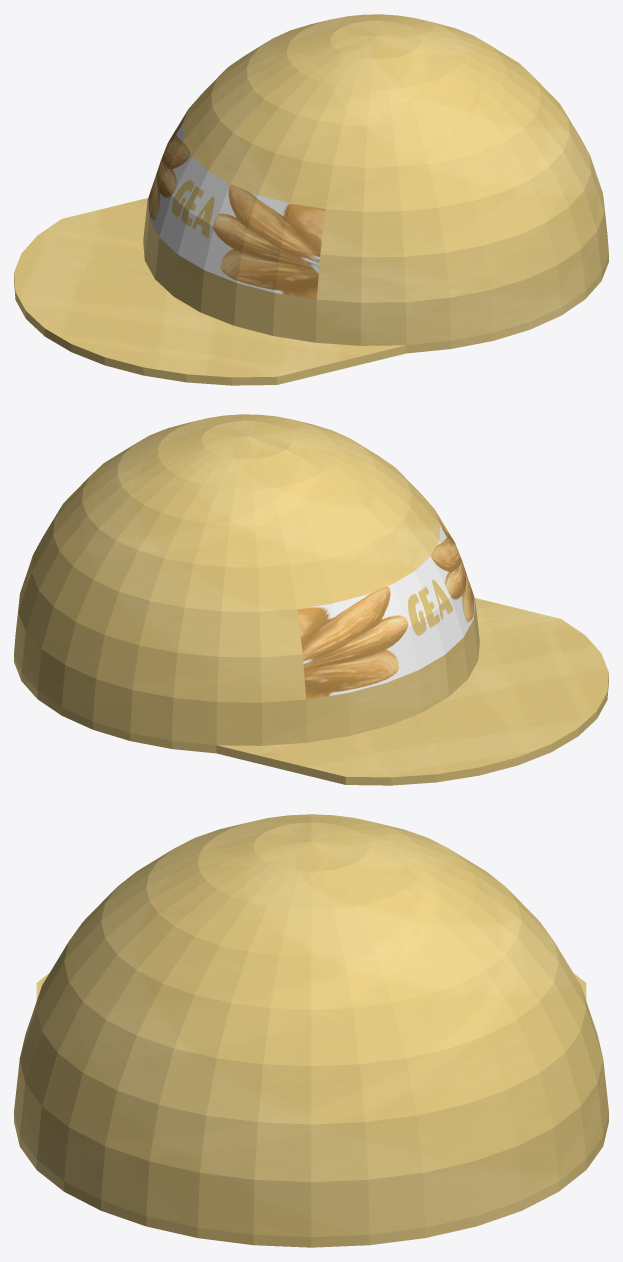
Rendered from CasquetteJaune.glb.
3 views of the same model, one above another, from view 1: azimuth 30°, elevation 25°; view 2: azimuth 150°, elevation 25°; view 3: azimuth 270°, elevation 25° (orthographic). The views are drawn at different scales.
Visible parts, largest first — view 1: Sphere; view 2: Sphere; view 3: Sphere.
Part boxes in pixels (<box>): Sphere: <box>14,14,608,385</box>; Sphere: <box>14,414,608,785</box>; Sphere: <box>14,814,608,1247</box>.
Size of the model in its own units: 0.2639 by 0.1039 by 0.2.
Materials: 2 (2 with a texture image).
